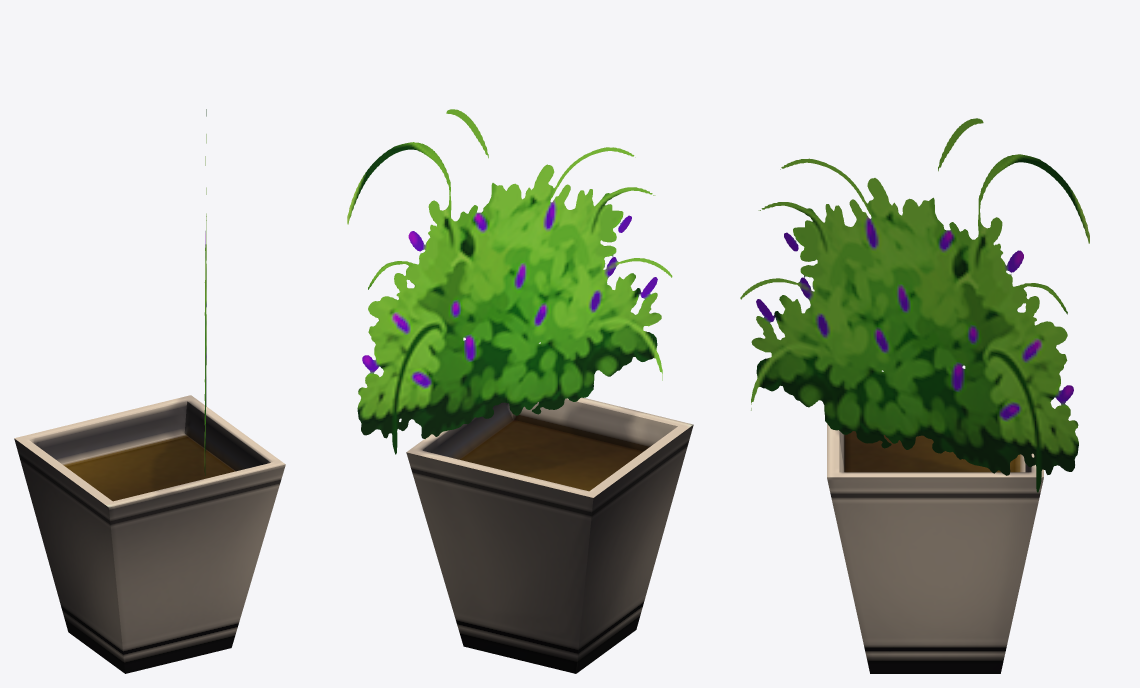
Rendered from Tx_props_plant_9.fbx.
3 renders of one model, left to right at view 1: azimuth 30°, elevation 25°; view 2: azimuth 150°, elevation 25°; view 3: azimuth 270°, elevation 25°, orthographic. The views are drawn at different scales.
Visible parts, largest first — view 1: Tx_plant_6; view 2: Tx_plant_6; view 3: Tx_plant_6.
Part boxes in pixels (x1=…): Tx_plant_6: x1=14, y1=109, x2=285, y2=673; Tx_plant_6: x1=347, y1=109, x2=693, y2=673; Tx_plant_6: x1=740, y1=118, x2=1089, y2=673.
Bounding box in the file's own units: 2.44 × 5.42 × 3.25.
